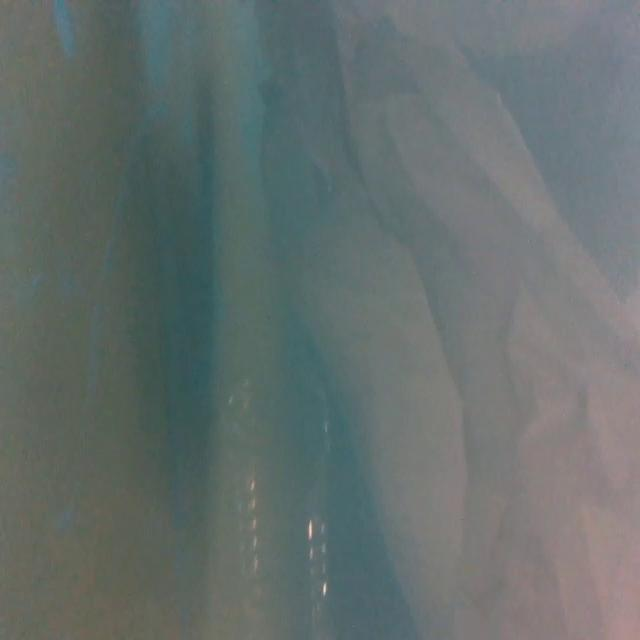plastic bags: (253, 0, 640, 640)
plastic bottle: (225, 357, 347, 640)
